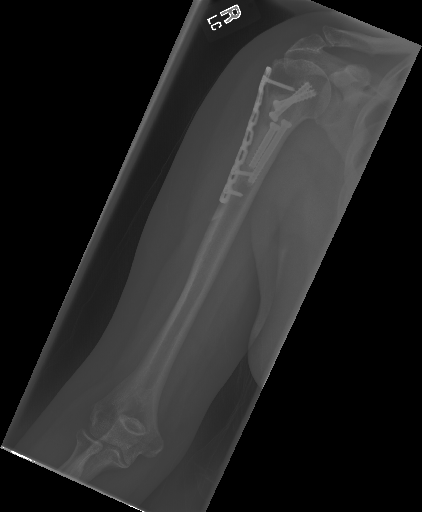implant: (220, 61, 284, 204), (246, 115, 304, 186), (266, 74, 325, 121)
